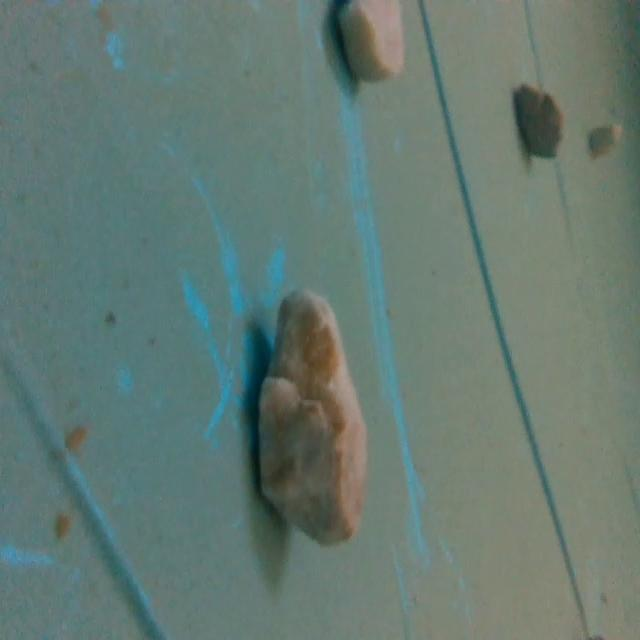rock: (248, 274, 373, 556), (328, 0, 413, 85), (513, 72, 572, 166)
